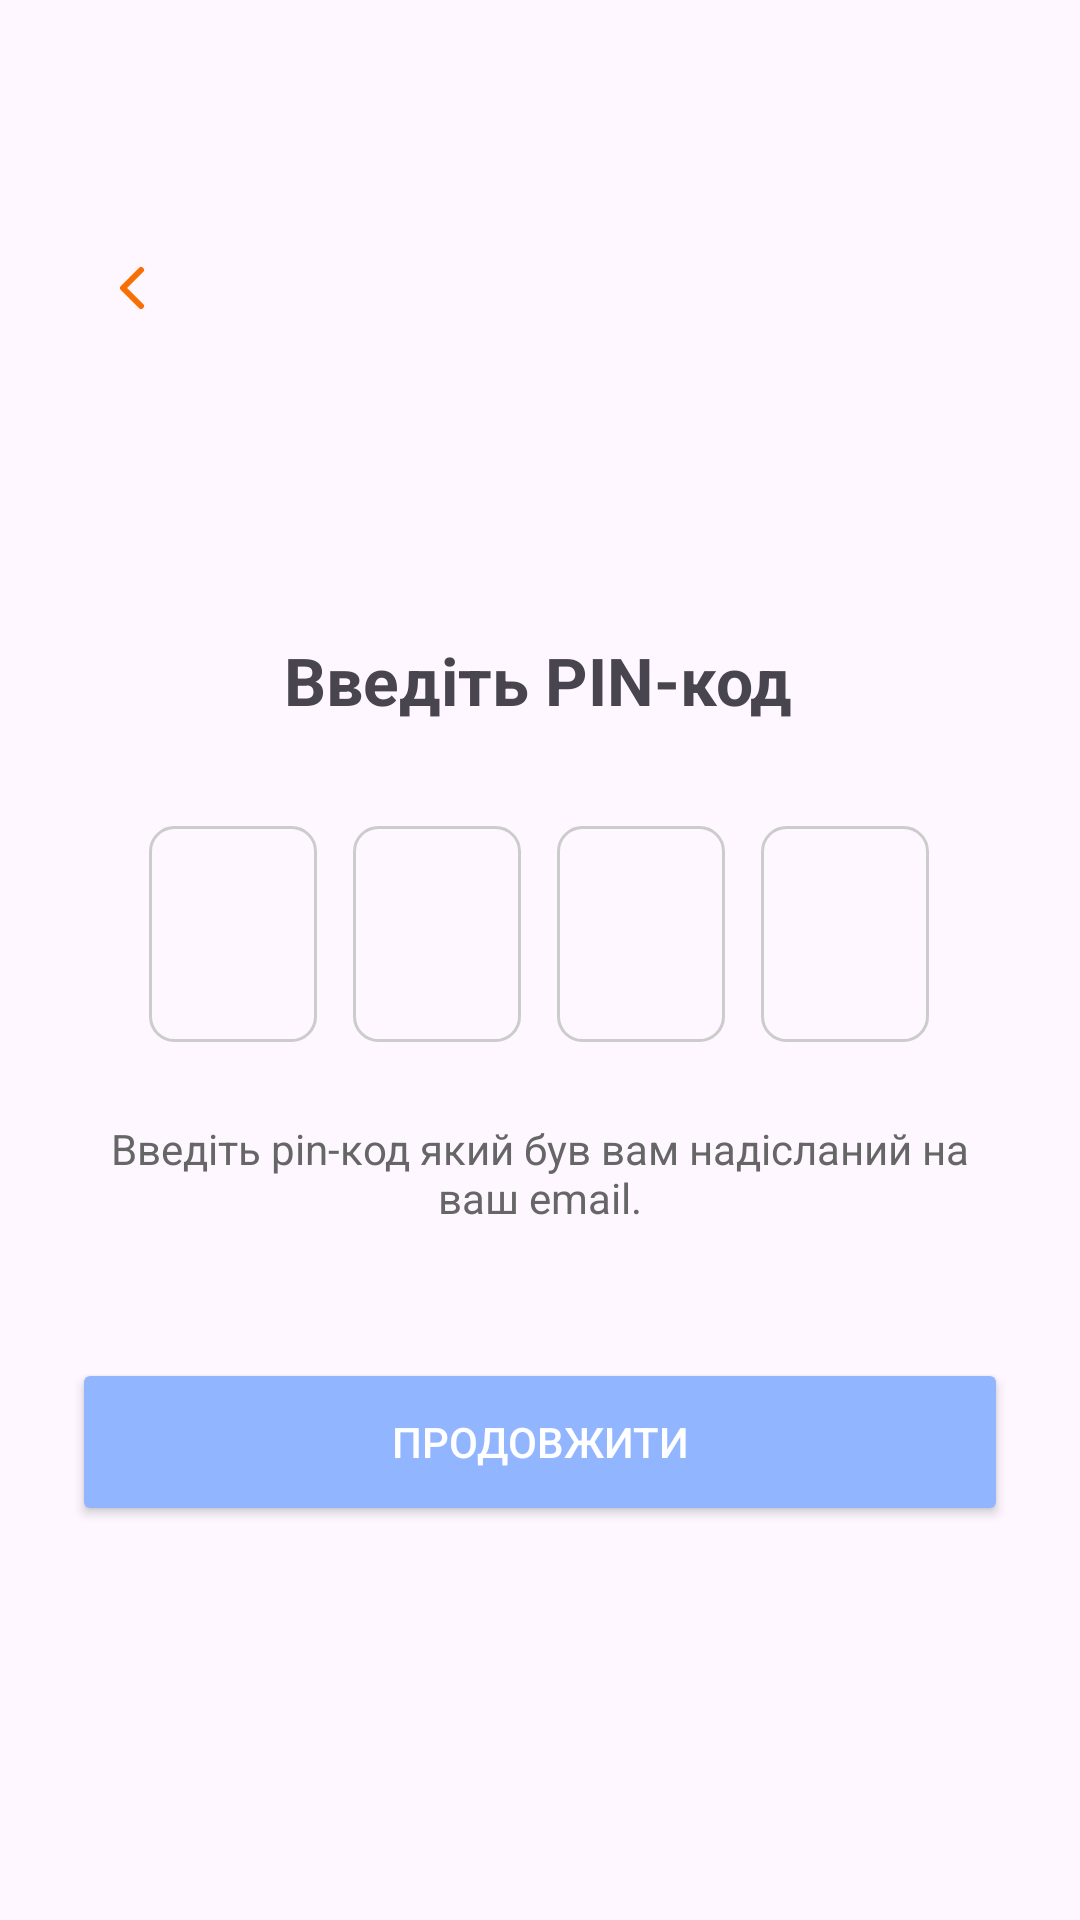

Where icons sit on this 1080 × 1920 app screen, as (x1, y1, x2, y2):
back: (120, 267, 144, 309)
